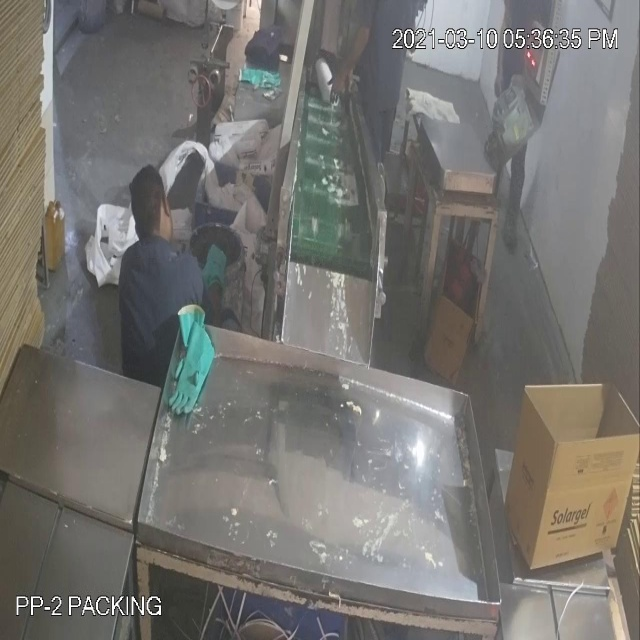Sin_guantes: (317, 22, 377, 108)
